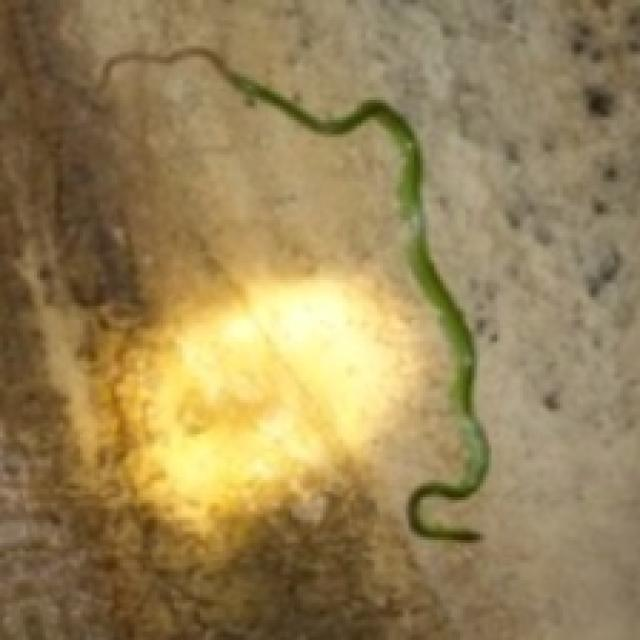red-tailed green ratsnake: (100, 46, 486, 540)
